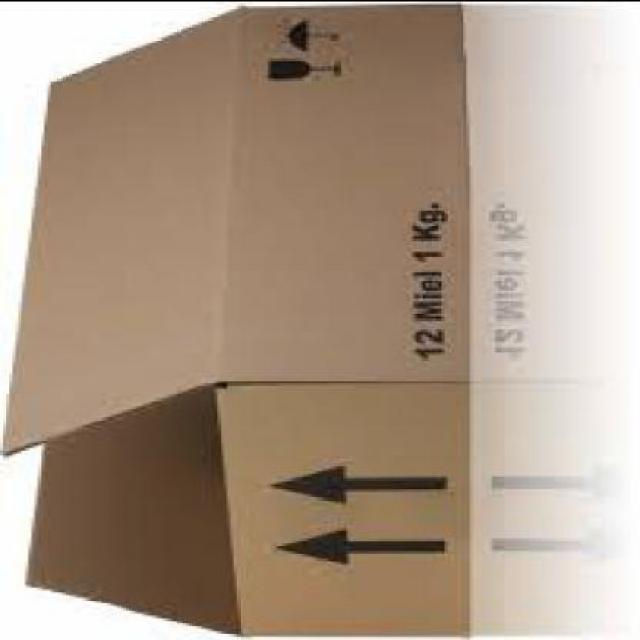box: (0, 2, 468, 639)
